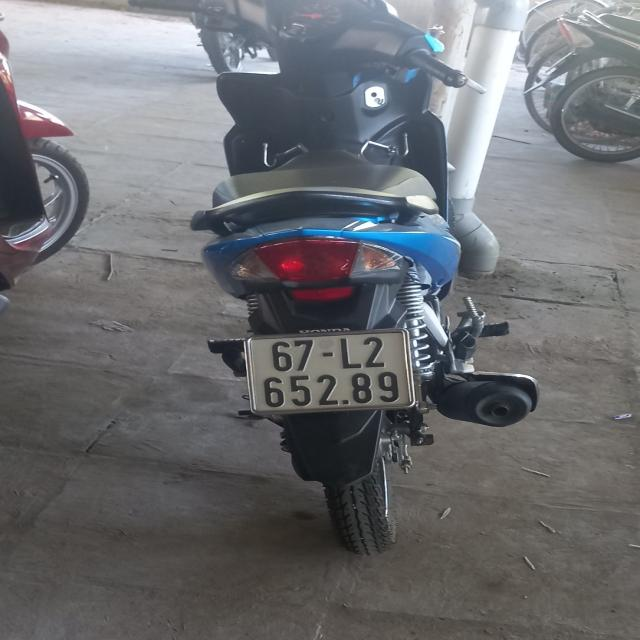2: (316, 374, 338, 406), (364, 336, 385, 368)
5: (291, 375, 312, 406)
6: (270, 341, 294, 372), (263, 377, 284, 408)
7: (294, 339, 314, 372)
8: (352, 372, 372, 403)
9: (379, 371, 399, 403)
L: (340, 338, 362, 368)
